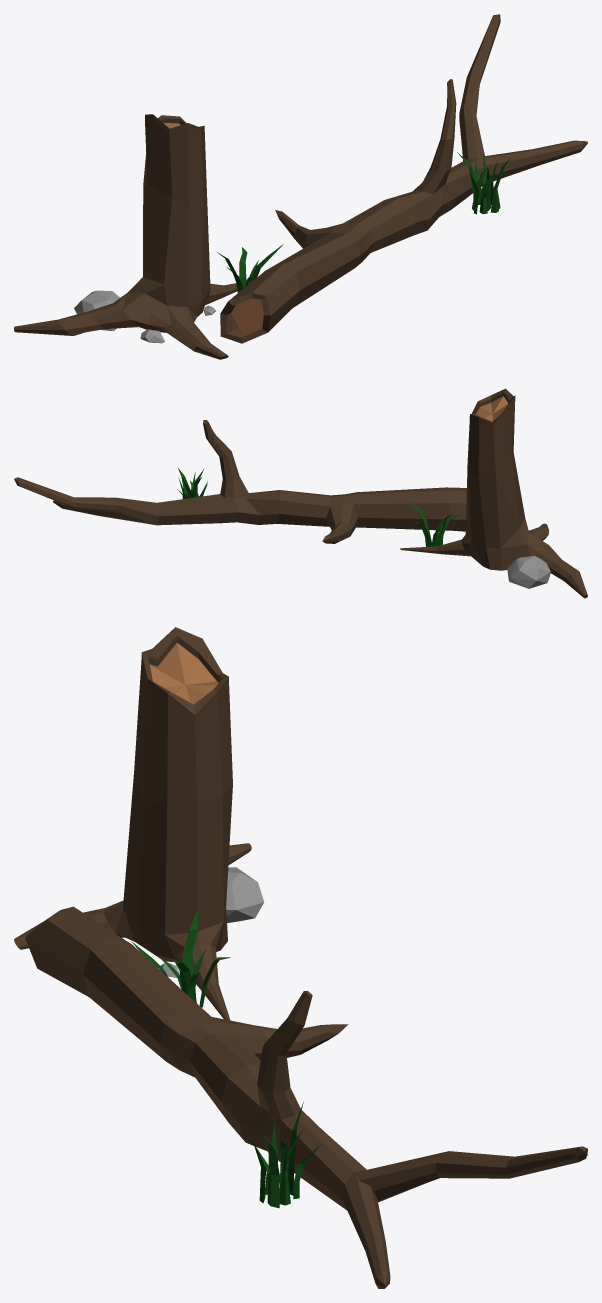
File: trunks 1.fbx
3 views of the same model, one above another, from view 1: azimuth 30°, elevation 25°; view 2: azimuth 150°, elevation 25°; view 3: azimuth 270°, elevation 25° (orthographic). The views are drawn at different scales.
Visible parts, largest first — view 1: Object; view 2: Object; view 3: Object.
Part boxes in pixels (<box>): Object: <box>14,14,587,359</box>; Object: <box>14,388,587,598</box>; Object: <box>14,627,587,1288</box>.
Bounding box in the file's own units: 202 × 65.61 × 110.
